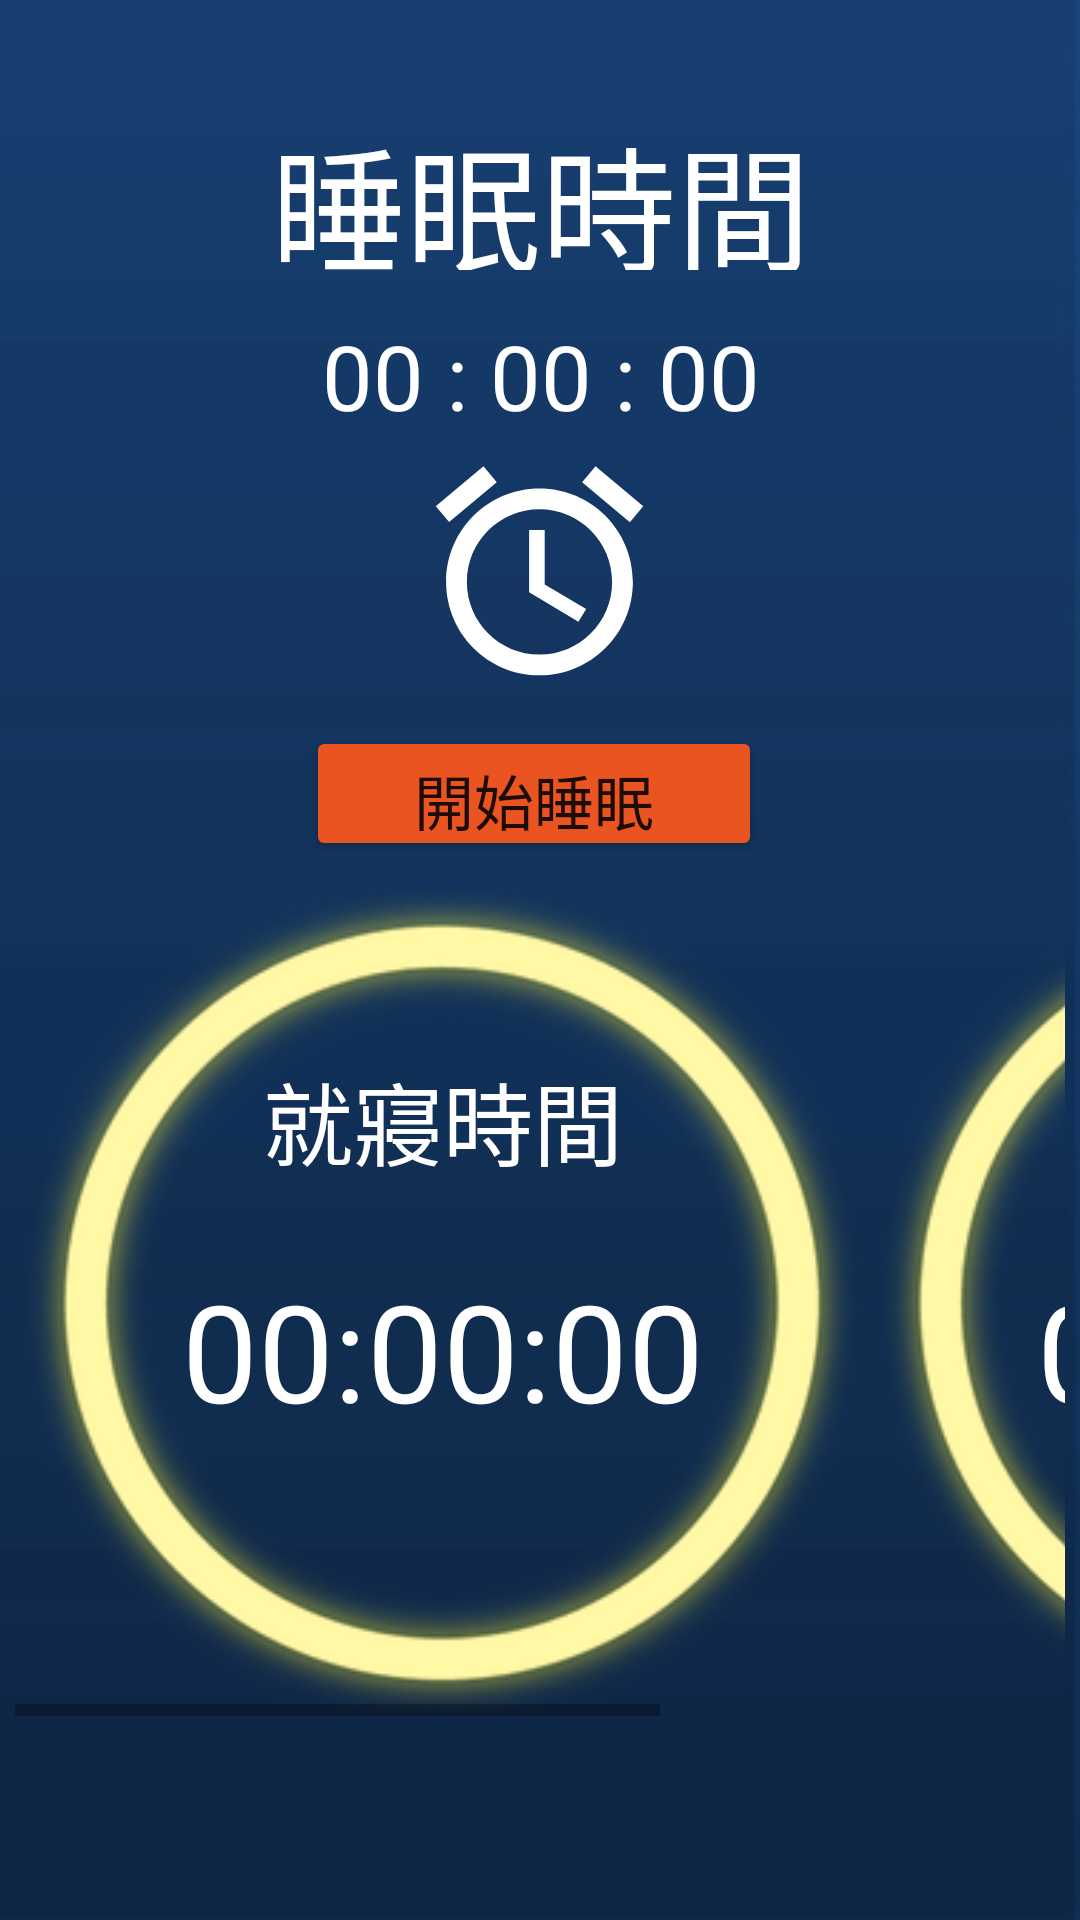

Where icons sit on this 1080w x 1920h app screen, as (x1, y1, x2, y2):
alarm: (436, 466, 643, 676)
